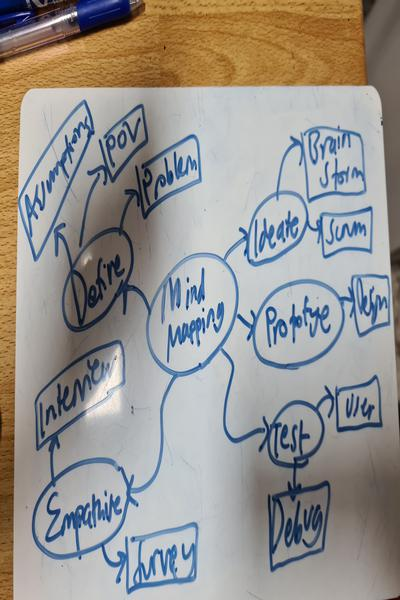arrow: (127, 374, 181, 506), (221, 349, 268, 458), (80, 166, 112, 247), (276, 135, 302, 198), (122, 281, 151, 316), (100, 544, 127, 581), (119, 189, 141, 233), (53, 223, 72, 271), (223, 228, 246, 262), (237, 307, 256, 341), (315, 386, 334, 420), (288, 466, 303, 499), (307, 217, 324, 246), (341, 284, 355, 318), (49, 435, 58, 479)
idea: (18, 98, 91, 255), (30, 340, 126, 449), (265, 482, 330, 572), (136, 135, 205, 215), (123, 523, 196, 595), (302, 123, 367, 201), (100, 104, 148, 175), (334, 374, 383, 433), (320, 207, 373, 261), (351, 269, 390, 338)
topic: (146, 252, 240, 377), (29, 458, 129, 559), (255, 280, 345, 371), (59, 228, 133, 333), (248, 191, 309, 267), (269, 400, 324, 467)
